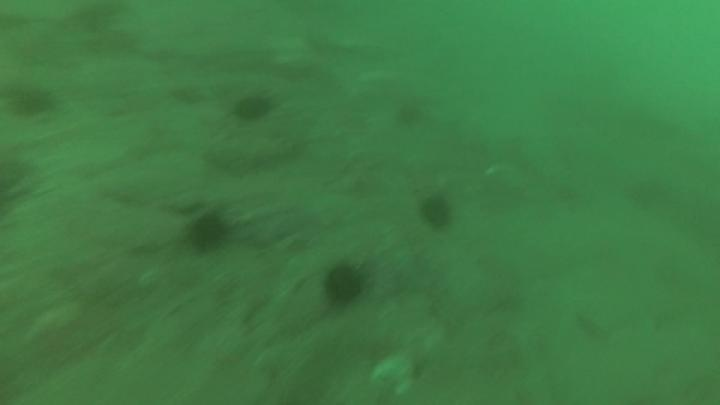echinus: (321, 261, 367, 309), (5, 81, 57, 121), (185, 211, 230, 254), (417, 193, 455, 233), (231, 91, 275, 125), (392, 99, 427, 130)
